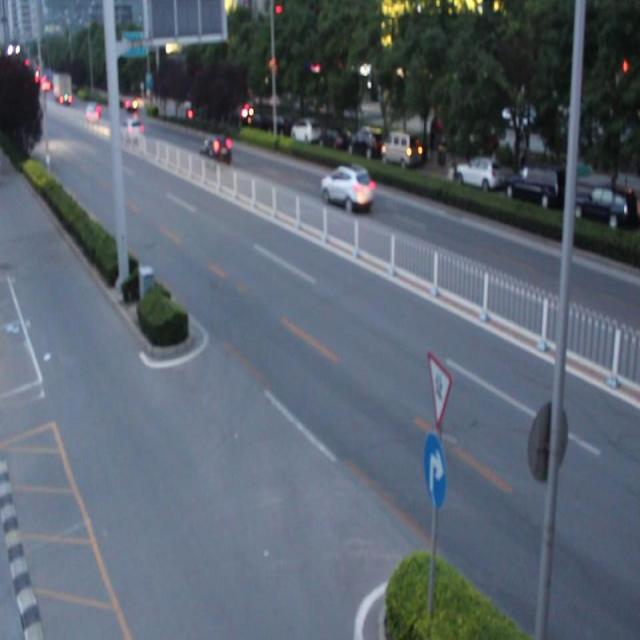car: (320, 162, 374, 214)
